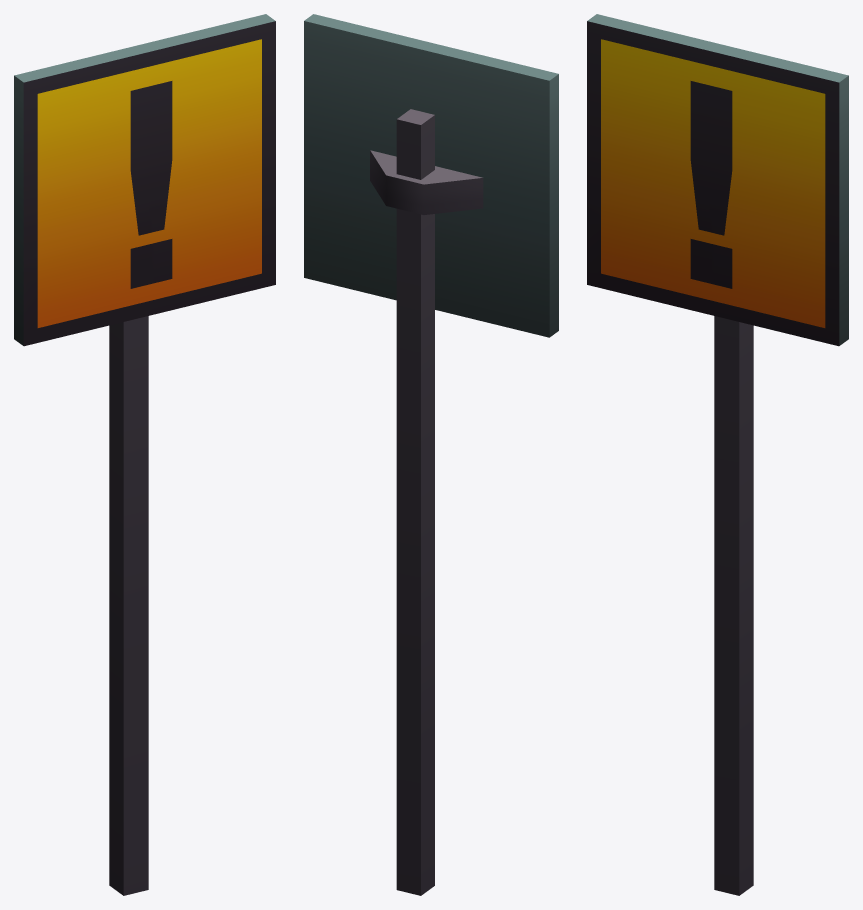
Rendered from Streetsign_2I.fbx.
3 views of the same model, side by side, from view 1: azimuth 30°, elevation 25°; view 2: azimuth 150°, elevation 25°; view 3: azimuth 330°, elevation 25° (orthographic). The views are drawn at different scales.
Visible parts, largest first — view 1: Streetsign_2I; view 2: Streetsign_2I; view 3: Streetsign_2I.
Boxes of the visible parts, x1,y1,x2,y2 form: Streetsign_2I: (14, 14, 275, 895); Streetsign_2I: (304, 14, 558, 895); Streetsign_2I: (587, 14, 848, 895).
Bounding box in the file's own units: 90 × 290 × 20.83.
